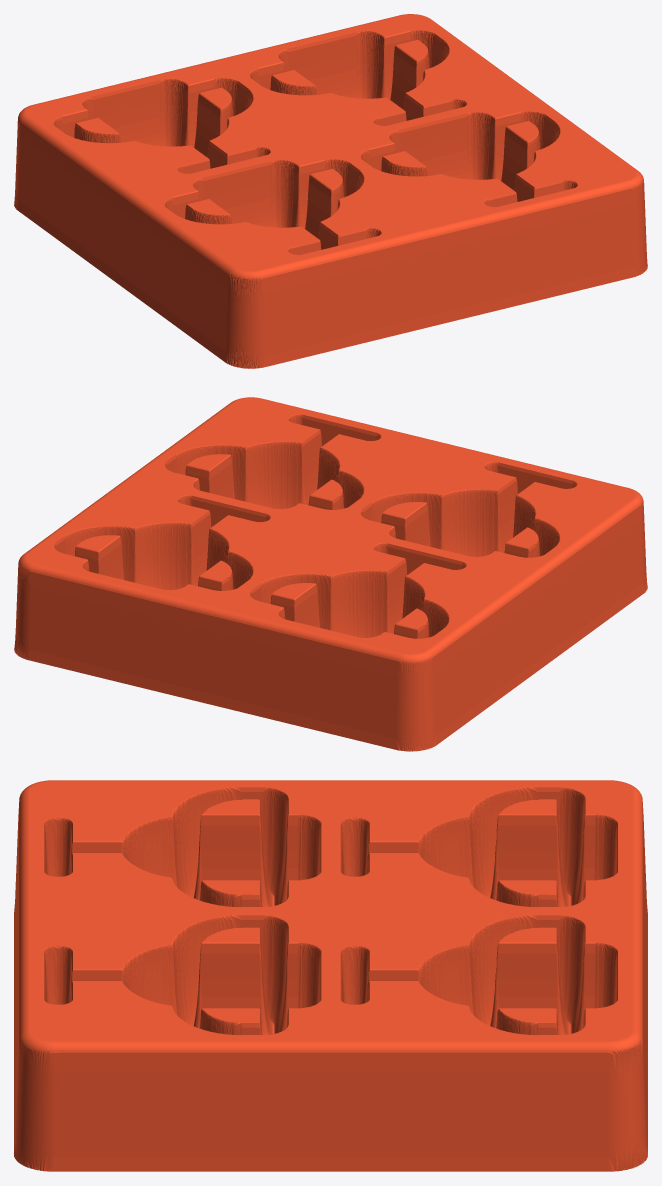
The model's file is mold.glb.
3 renders of one model, top to bottom at view 1: azimuth 30°, elevation 25°; view 2: azimuth 150°, elevation 25°; view 3: azimuth 270°, elevation 25°, orthographic. The views are drawn at different scales.
Visible parts, largest first — view 1: geometry_0; view 2: geometry_0; view 3: geometry_0.
Part boxes in pixels (bbox=[...]): geometry_0: bbox=[14, 14, 647, 368]; geometry_0: bbox=[14, 397, 647, 751]; geometry_0: bbox=[14, 780, 647, 1171].
Bounding box in the file's own units: 0.1466 × 0.031 × 0.1437.
